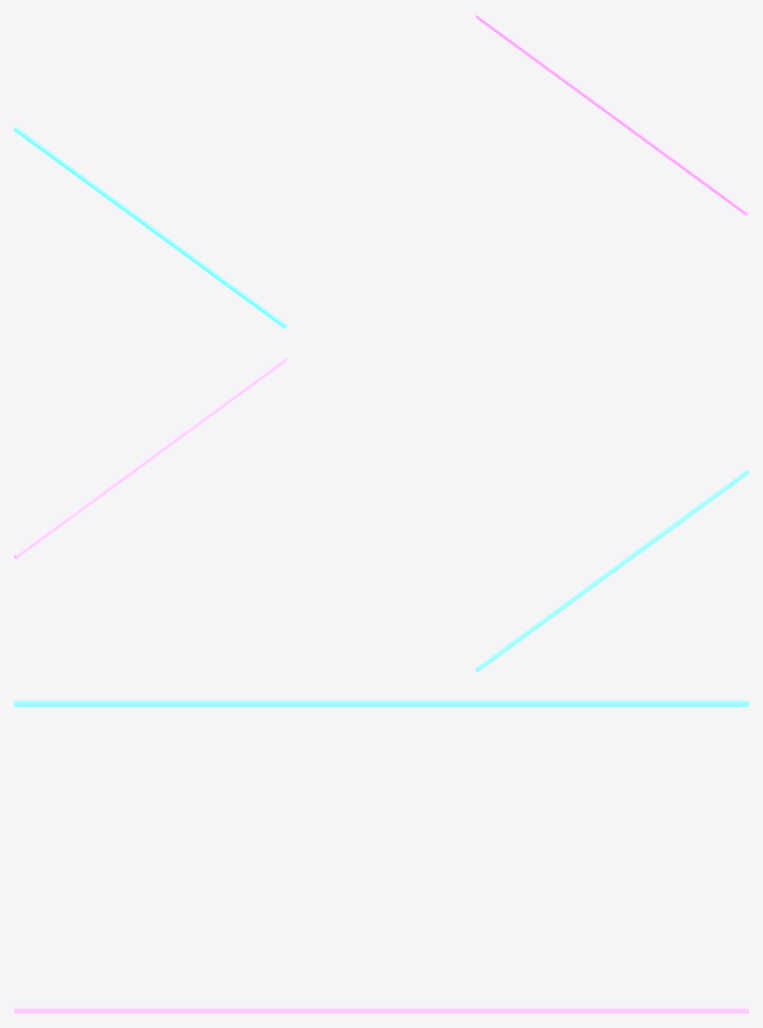
Rendered from bubble-arena-endlines.glb.
3 renders of one model, top to bottom at view 1: azimuth 30°, elevation 25°; view 2: azimuth 150°, elevation 25°; view 3: azimuth 270°, elevation 25°, orthographic. The views are drawn at different scales.
Parts seen in each view (by area): view 1: bubble_arena_endline_a, bubble_arena_endline_b; view 2: bubble_arena_endline_a, bubble_arena_endline_b; view 3: bubble_arena_endline_a, bubble_arena_endline_b.
Part boxes in pixels (x1,y1,x2,y2): bubble_arena_endline_a: [14, 127, 286, 328]; bubble_arena_endline_b: [476, 14, 748, 215]; bubble_arena_endline_a: [476, 470, 748, 671]; bubble_arena_endline_b: [14, 357, 286, 558]; bubble_arena_endline_a: [14, 700, 748, 706]; bubble_arena_endline_b: [14, 1007, 748, 1013].
Bounding box in the file's own units: 30.58 × 0.22 × 30.8.
